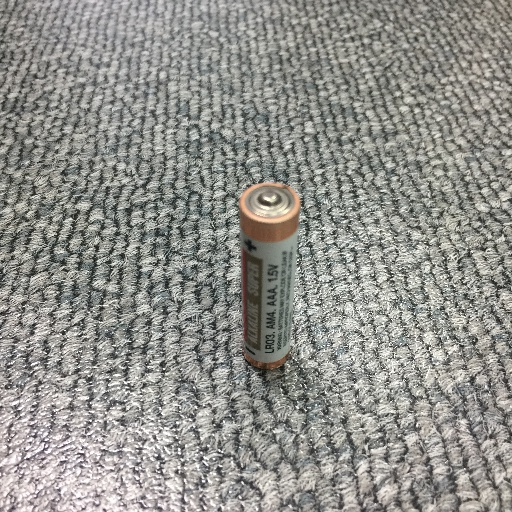Battery_0: (234, 177, 303, 377)
